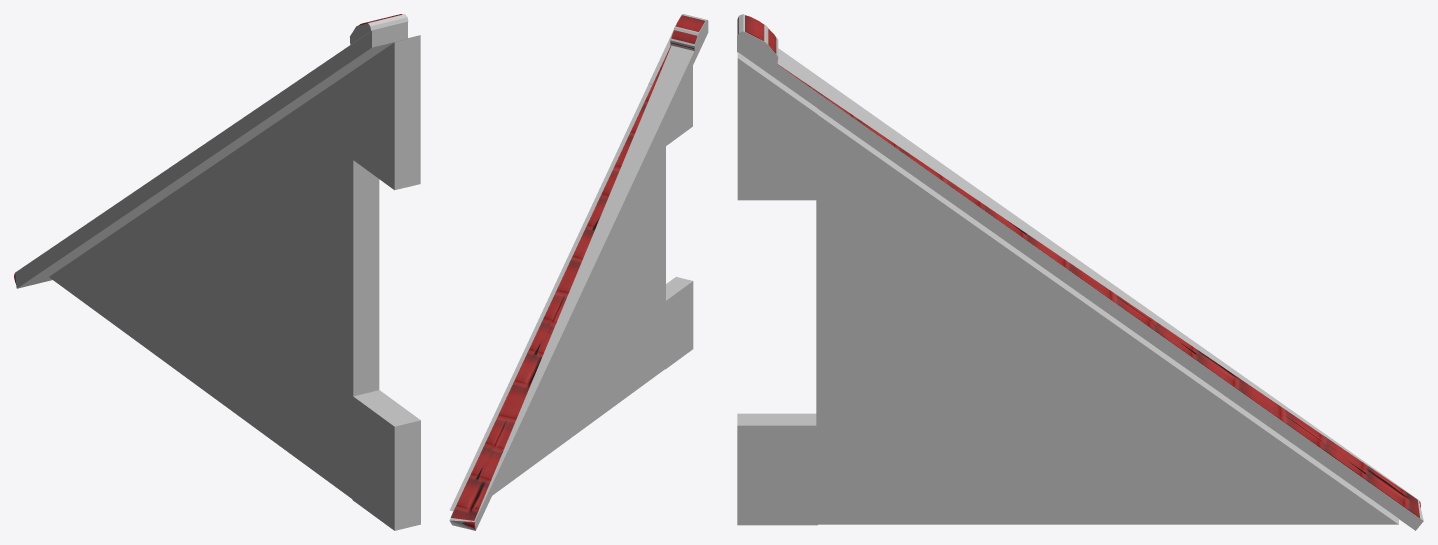
File: SM_M01Roof01_2WindowTypeA.fbx
The picture shows the model from 3 angles, left to right: view 1: azimuth 30°, elevation 25°; view 2: azimuth 150°, elevation 25°; view 3: azimuth 270°, elevation 25°; orthographic projection. The views are drawn at different scales.
Parts seen in each view (by area): view 1: SM_M01Roof01_2WindowTypeA_ConvexHulls; view 2: SM_M01Roof01_2WindowTypeA_ConvexHulls, SM_M01Roof01_2WindowTypeA; view 3: SM_M01Roof01_2WindowTypeA_ConvexHulls, SM_M01Roof01_2WindowTypeA.
Part boxes in pixels (x1=…): SM_M01Roof01_2WindowTypeA_ConvexHulls: x1=15, y1=14, x2=420, y2=530; SM_M01Roof01_2WindowTypeA_ConvexHulls: x1=449, y1=14, x2=708, y2=530; SM_M01Roof01_2WindowTypeA: x1=451, y1=15, x2=704, y2=528; SM_M01Roof01_2WindowTypeA_ConvexHulls: x1=737, y1=14, x2=1423, y2=530; SM_M01Roof01_2WindowTypeA: x1=745, y1=15, x2=1420, y2=517.
Size of the model in its own units: 38.24 by 479 by 385.
Materials: 4 (3 with a texture image).
